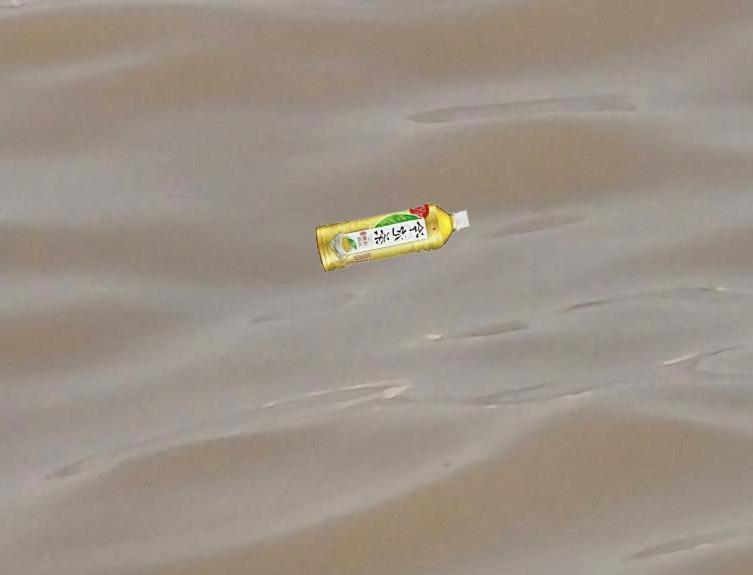Plastic: (312, 197, 472, 274)
